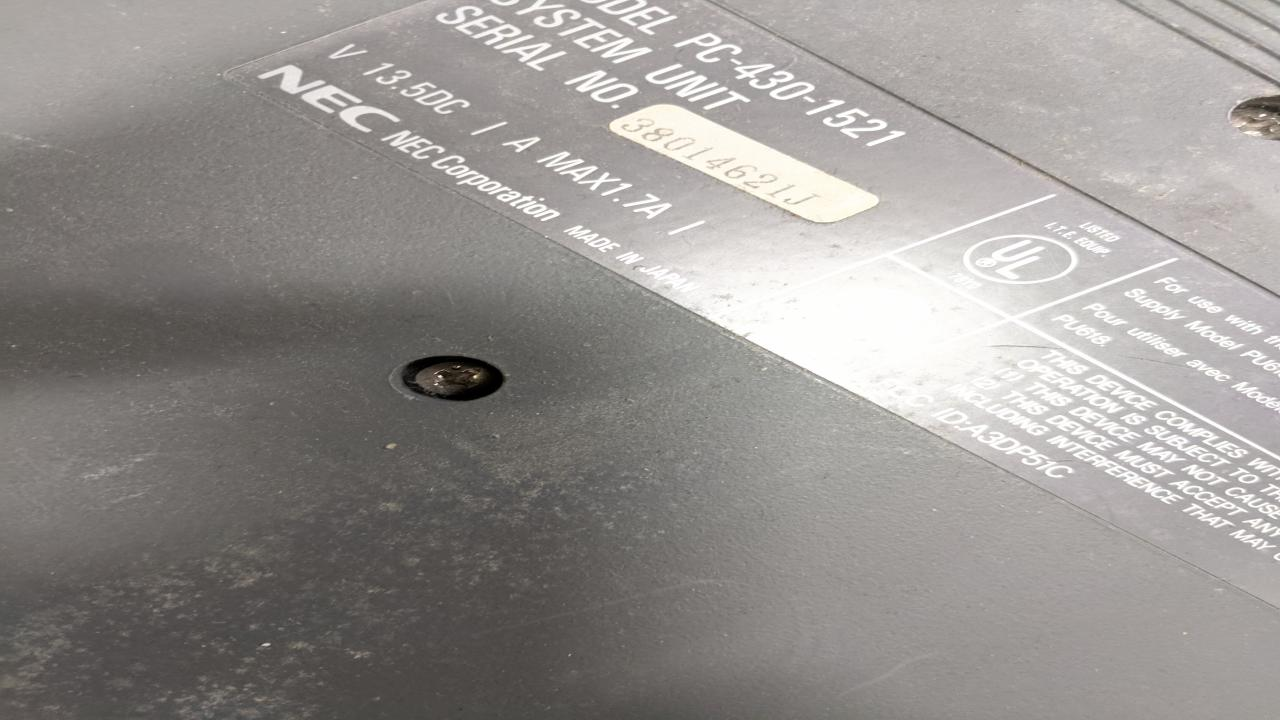CRS: (404, 358, 511, 400), (1232, 102, 1280, 148)
